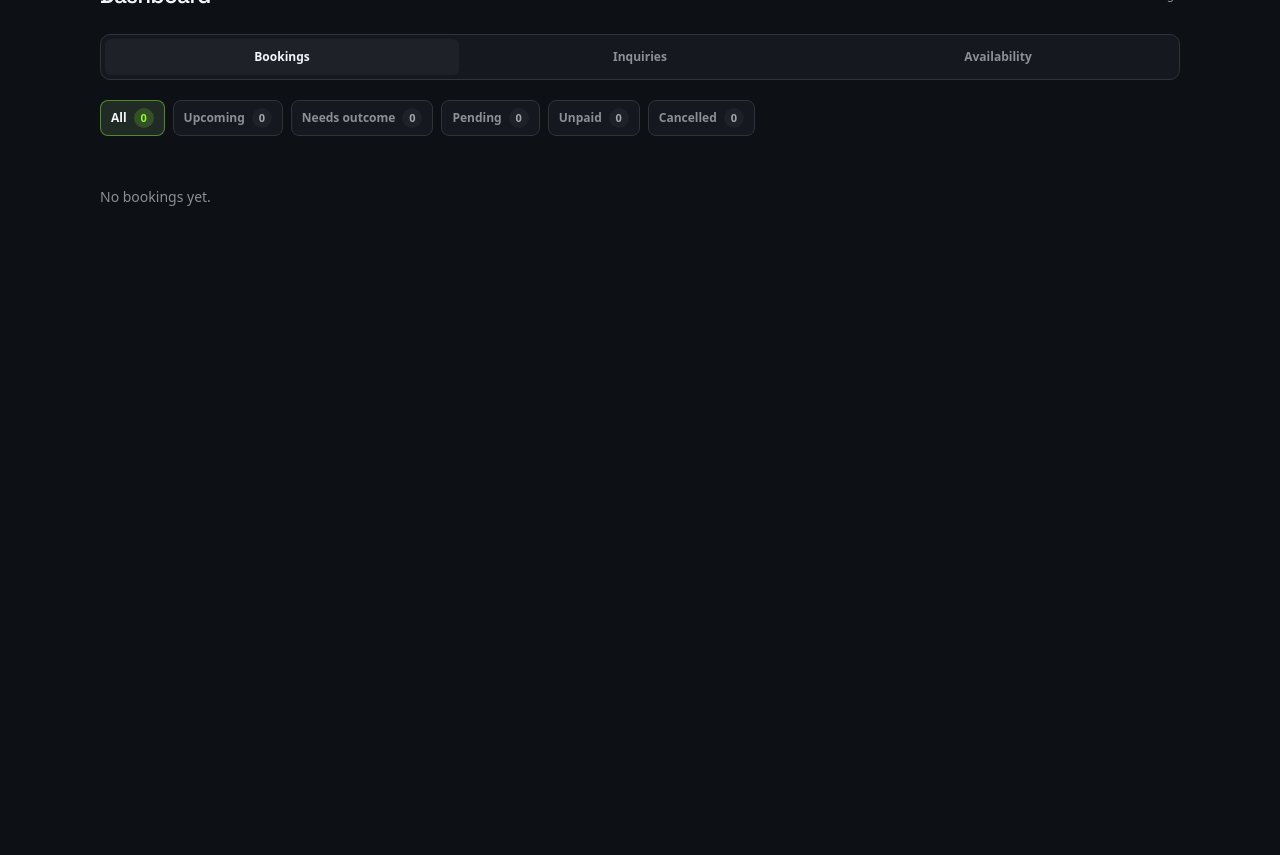
Test: AdminDashboard availability › loads the control center and adds a manual block with mocked admin APIs
This screenshot has width=1280, height=855.
Click the button "Availability" at [998, 57], box [821, 39, 1175, 75]
(page scrolled)
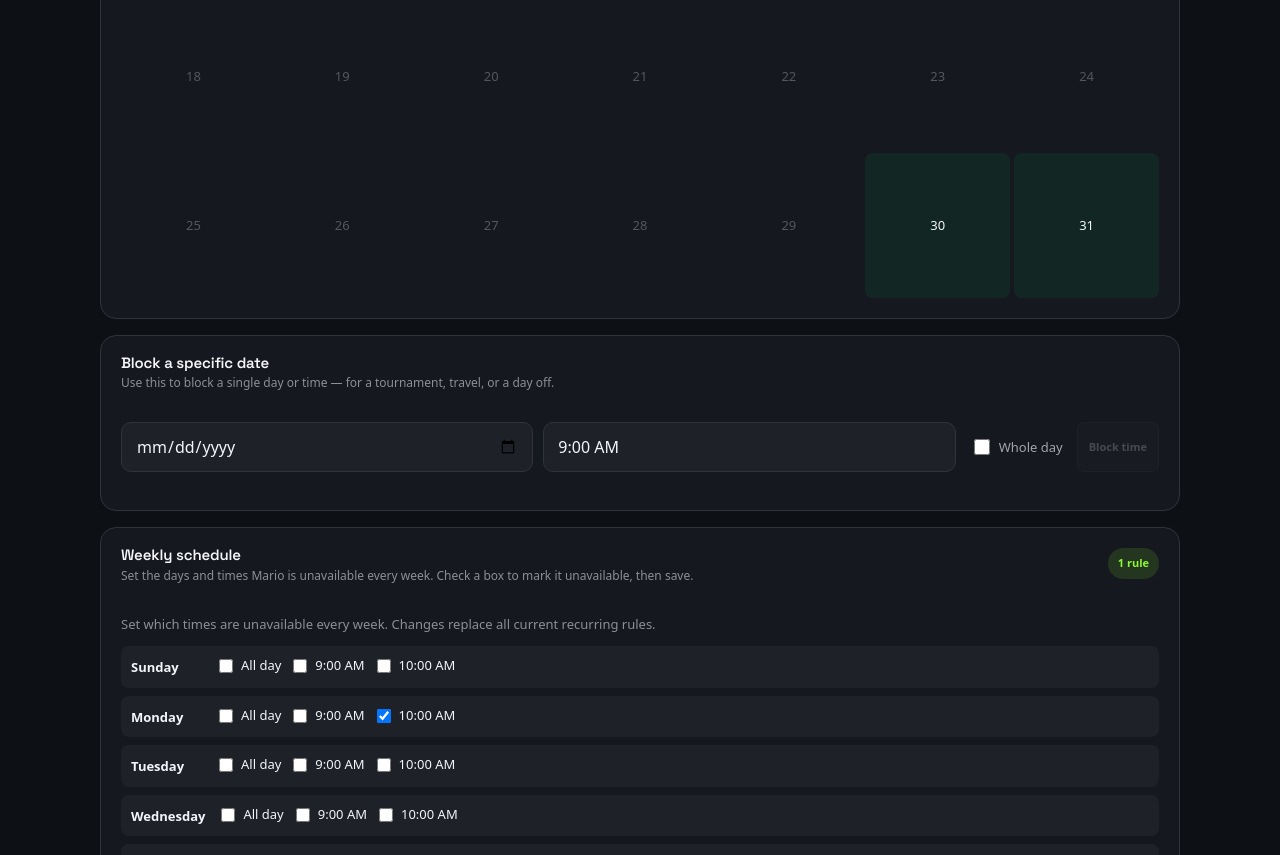
Expected: the heading "Block a specific date" is shown, [121, 353, 269, 372]
Expected: the heading "Weekly schedule" is shown, [121, 545, 241, 564]
Expected: the text "Whole day" is shown, [999, 438, 1063, 457]
Type "2026-05-07" into the date field named "date to block" at [327, 447], box [121, 422, 533, 472]
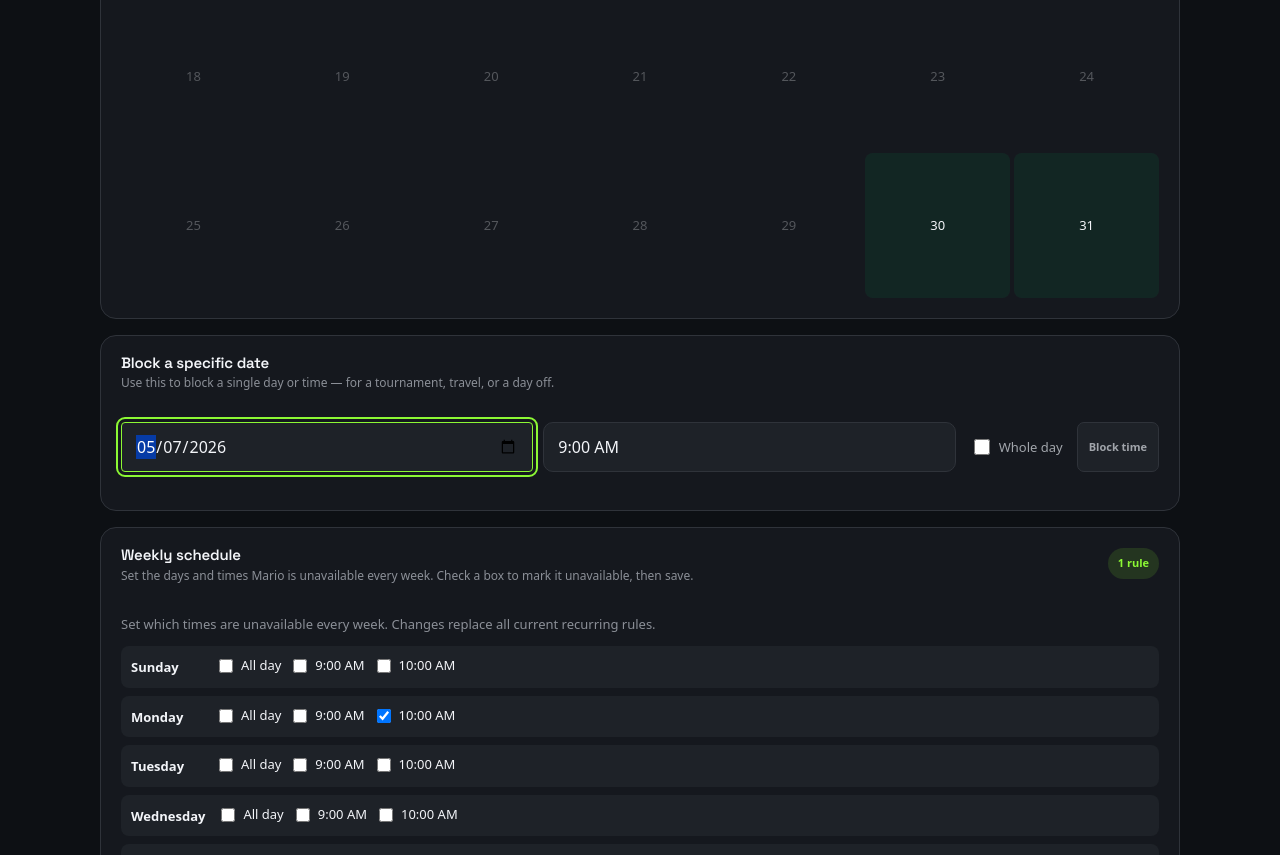
Select "10:00 AM" in the dropdown named "time to block" at [749, 447], box [543, 422, 956, 472]
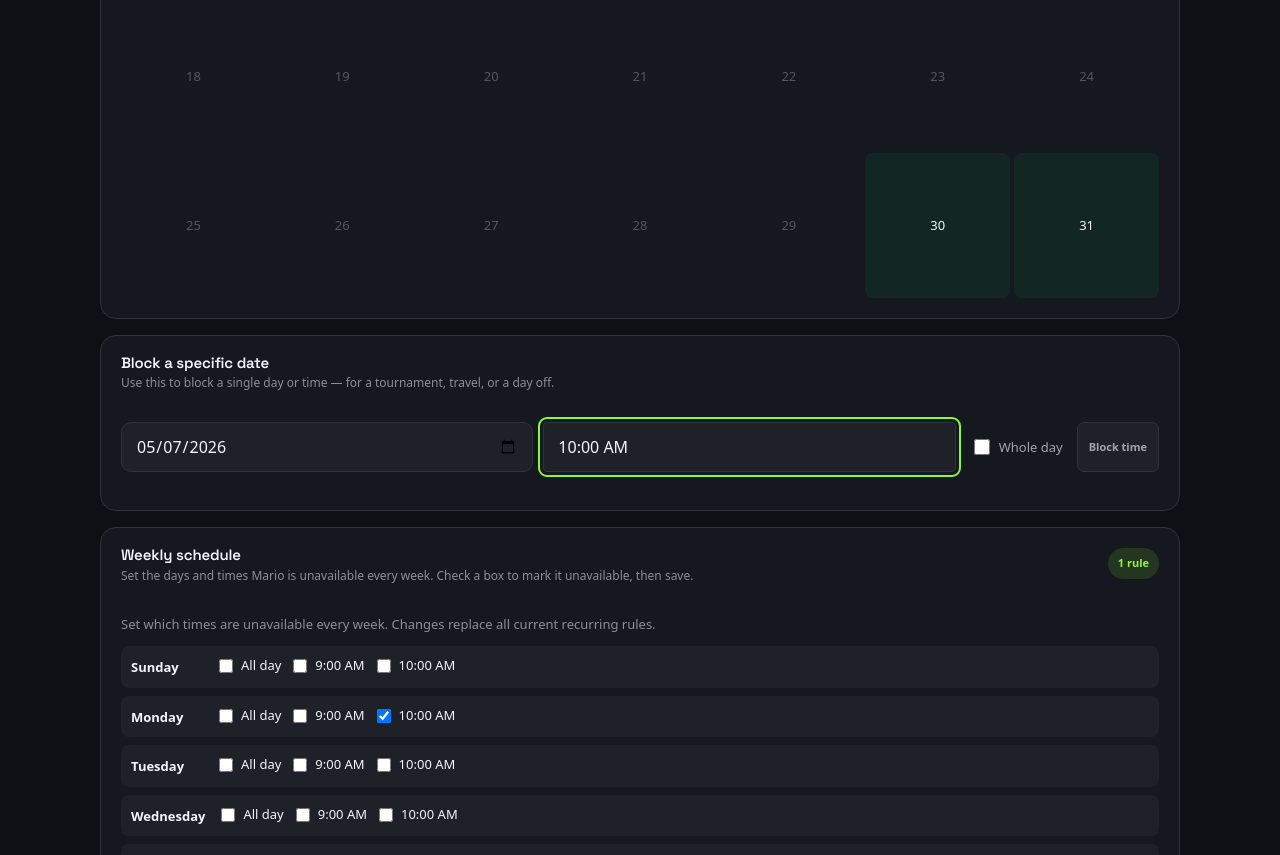
Click the button "Block time" at [1118, 447], box [1077, 422, 1159, 472]
(page scrolled)
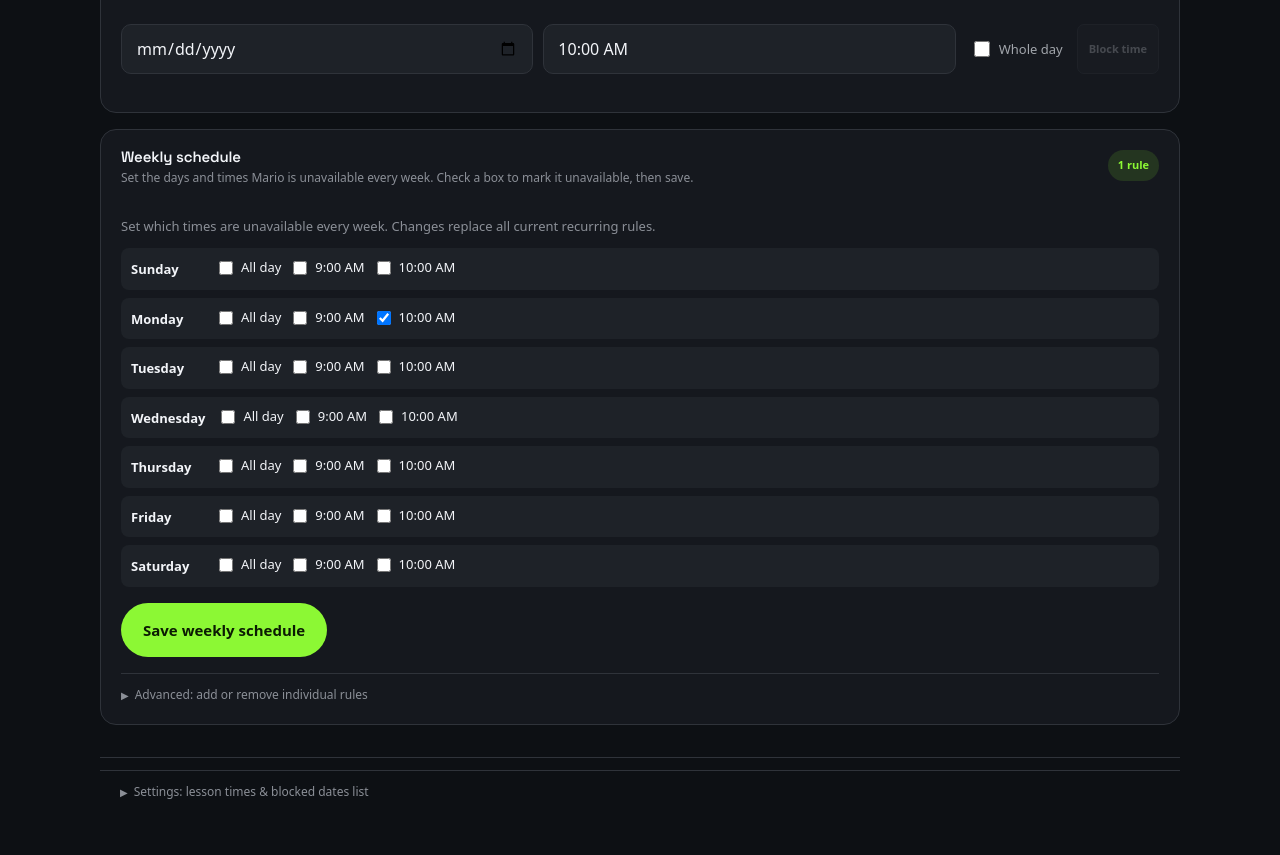
Click the heading "Settings: lesson times & blocked dates list" at [251, 792], box [100, 770, 1180, 813]
(page scrolled)
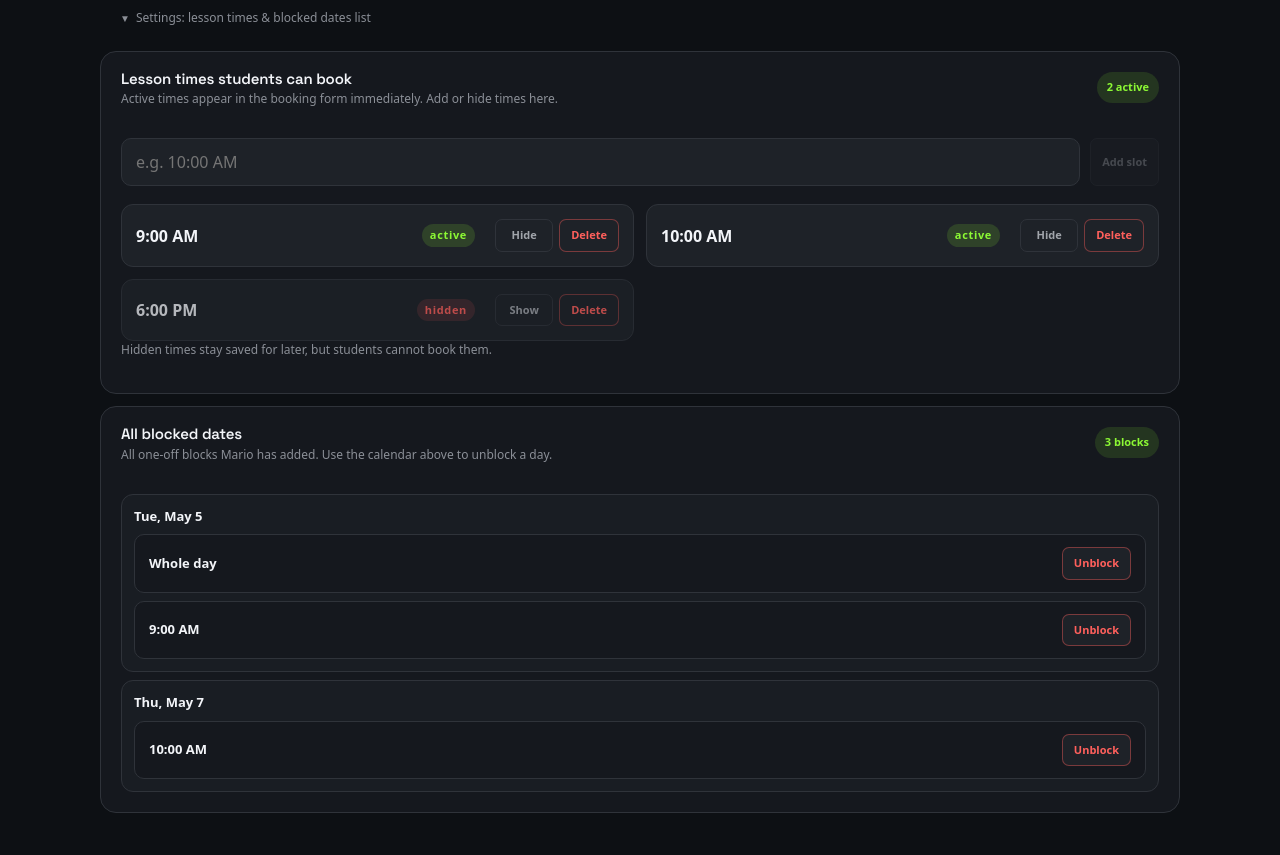
Expected: the text "Thu, May 7" is shown, [134, 693, 204, 711]
